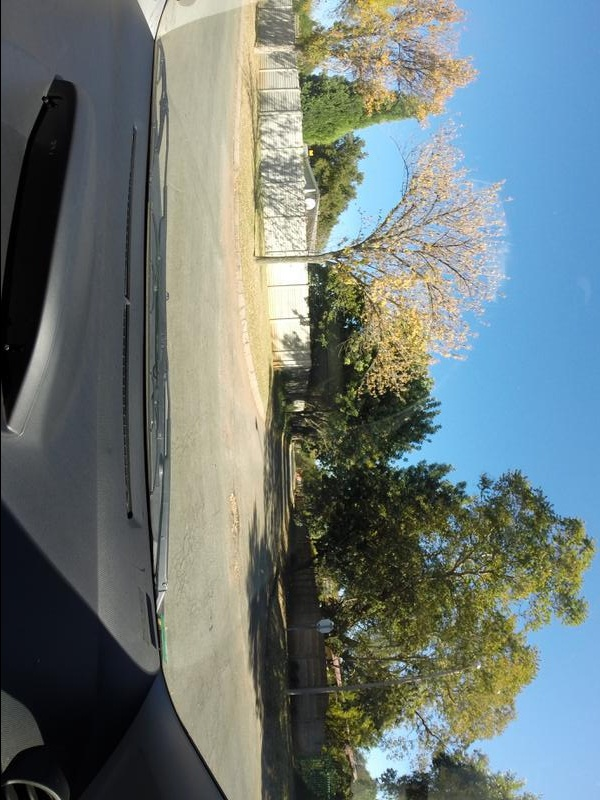pothole: (217, 478, 246, 604)
